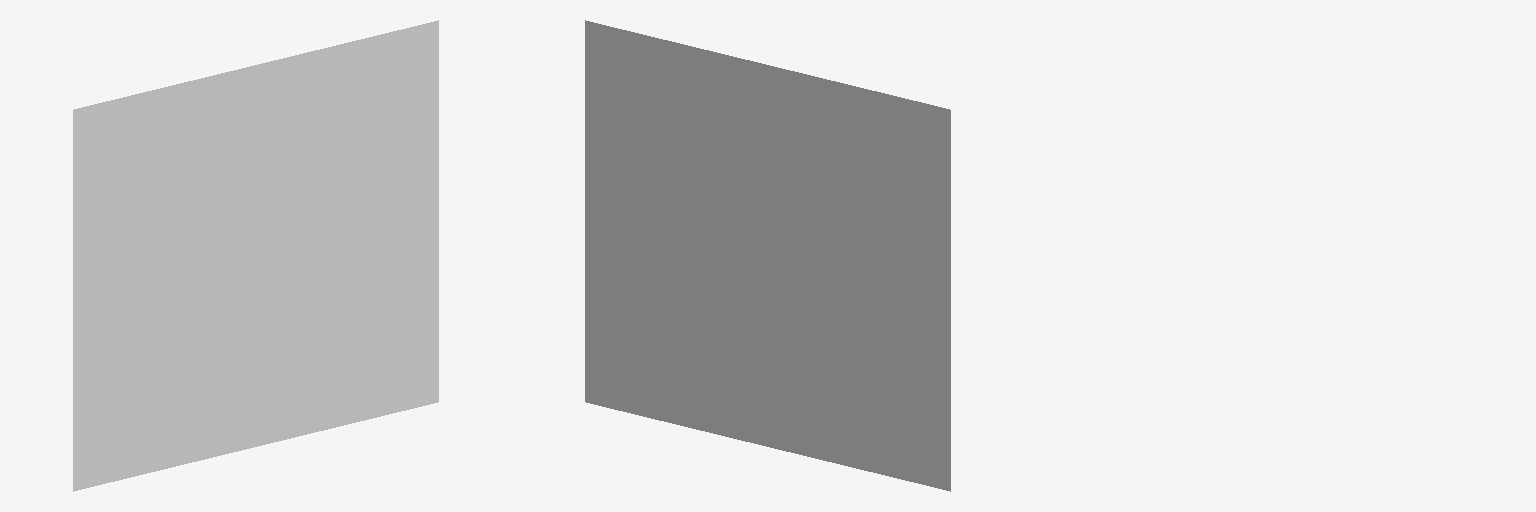
URDF robot description (magician):
<robot name="magician">
    <link name="base_link">
        <visual>
            <origin xyz="0 0 0" rpy="0 0 0"/>
            <geometry>
                <mesh filename="m2/checker.obj" scale="1 1 1"/>
            </geometry>
            
            <material name="white">
                <color rgba="1 1 1 1"/>
                <specular rgb="11 1 1"/>
            </material>
        </visual>
        <collision>
            <origin xyz="0 0 0" rpy="0 0 0"/>
            <geometry>
                <mesh filename="m2/checker.obj"/>
            </geometry>
        </collision>
    </link>
</robot>  

--- Facts derived from the render (not from the file) ---
3 views of the same robot in one strip: view 1: azimuth 30°, elevation 25°; view 2: azimuth 150°, elevation 25°; view 3: azimuth 270°, elevation 25° (orthographic).
Model magician with 1 links and 0 joints (none), rooted at base_link, posed all joints at 0.
Visible links, largest first — view 1: base_link; view 2: base_link; view 3: none.
Boxes of the visible links, box(x1,y1,x2,y2) form: base_link: box(73, 20, 438, 491); base_link: box(585, 20, 950, 491).
Bounding box of the posed robot: 2 × 0 × 2 m (x, y, z).
1 mesh visuals loaded from 1 distinct referenced files (1 OBJ).